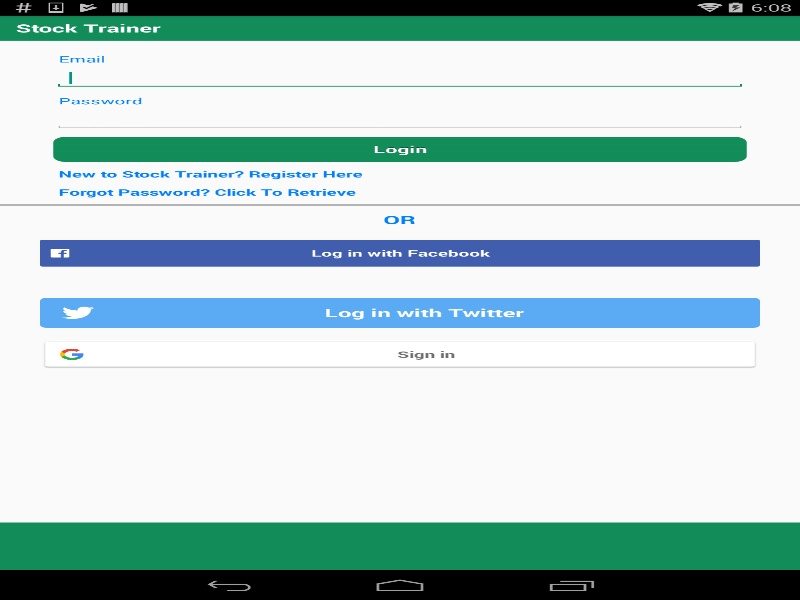Button: (40, 297, 760, 327), (40, 339, 760, 369), (40, 239, 760, 266), (53, 136, 746, 161)
Input: (53, 67, 746, 88), (53, 109, 746, 130)
